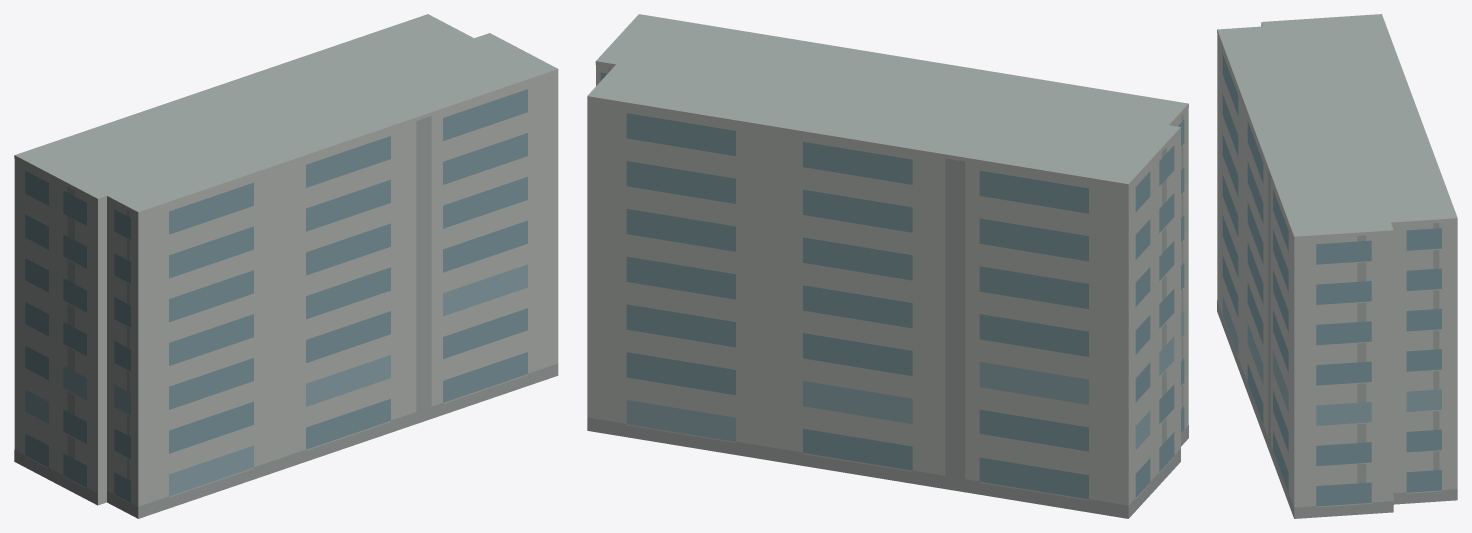
The model's file is survey-upis-32702223.glb.
3 renders of one model, left to right at view 1: azimuth 30°, elevation 25°; view 2: azimuth 150°, elevation 25°; view 3: azimuth 270°, elevation 25°, orthographic. The views are drawn at different scales.
Visible parts, largest first — view 1: survey-upis-32702223.tmp; view 2: survey-upis-32702223.tmp; view 3: survey-upis-32702223.tmp.
Boxes of the visible parts, x1,y1,x2,y2 form: survey-upis-32702223.tmp: [14, 14, 558, 518]; survey-upis-32702223.tmp: [587, 14, 1188, 518]; survey-upis-32702223.tmp: [1217, 14, 1457, 518].
Size of the model in its own units: 34.56 by 20.4 by 15.78.
